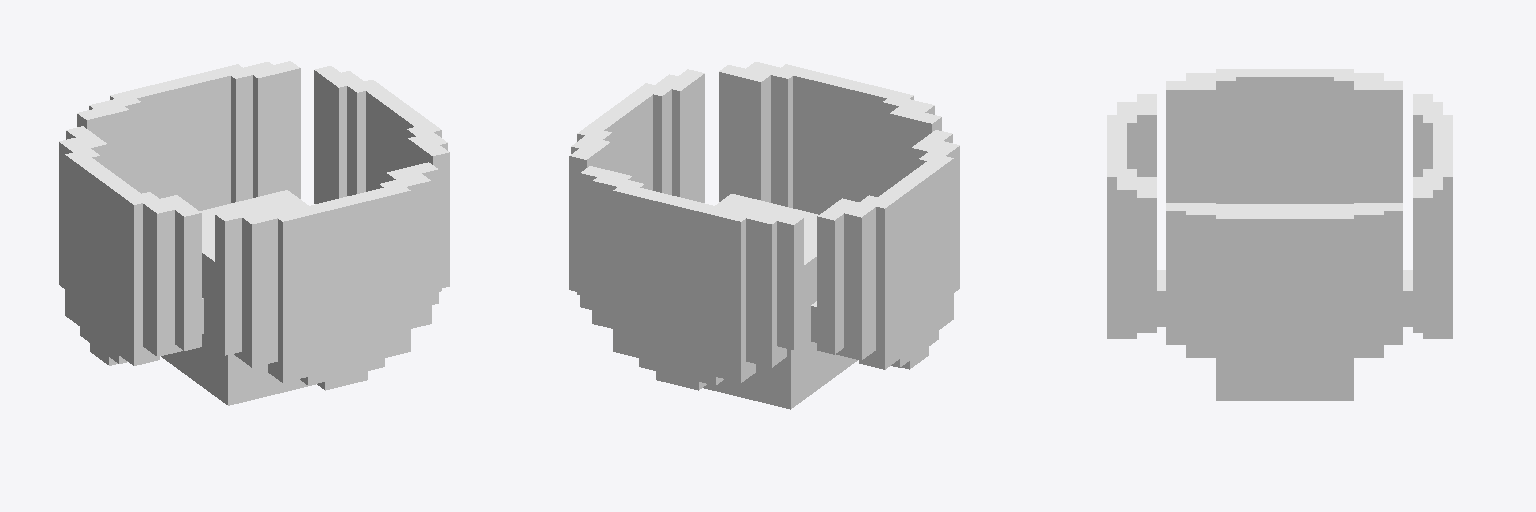
The model's file is boxplayer-0.obj.
3 views of the same model, side by side, from view 1: azimuth 30°, elevation 25°; view 2: azimuth 150°, elevation 25°; view 3: azimuth 270°, elevation 25° (orthographic).
Parts seen in each view (by area): view 1: object 1; view 2: object 1; view 3: object 1.
Boxes of the visible parts, x1=… form: object 1: x1=59, y1=61, x2=449, y2=405; object 1: x1=569, y1=62, x2=959, y2=409; object 1: x1=1107, y1=69, x2=1452, y2=400.
Size of the model in its own units: 3.6 by 2.5 by 3.5.